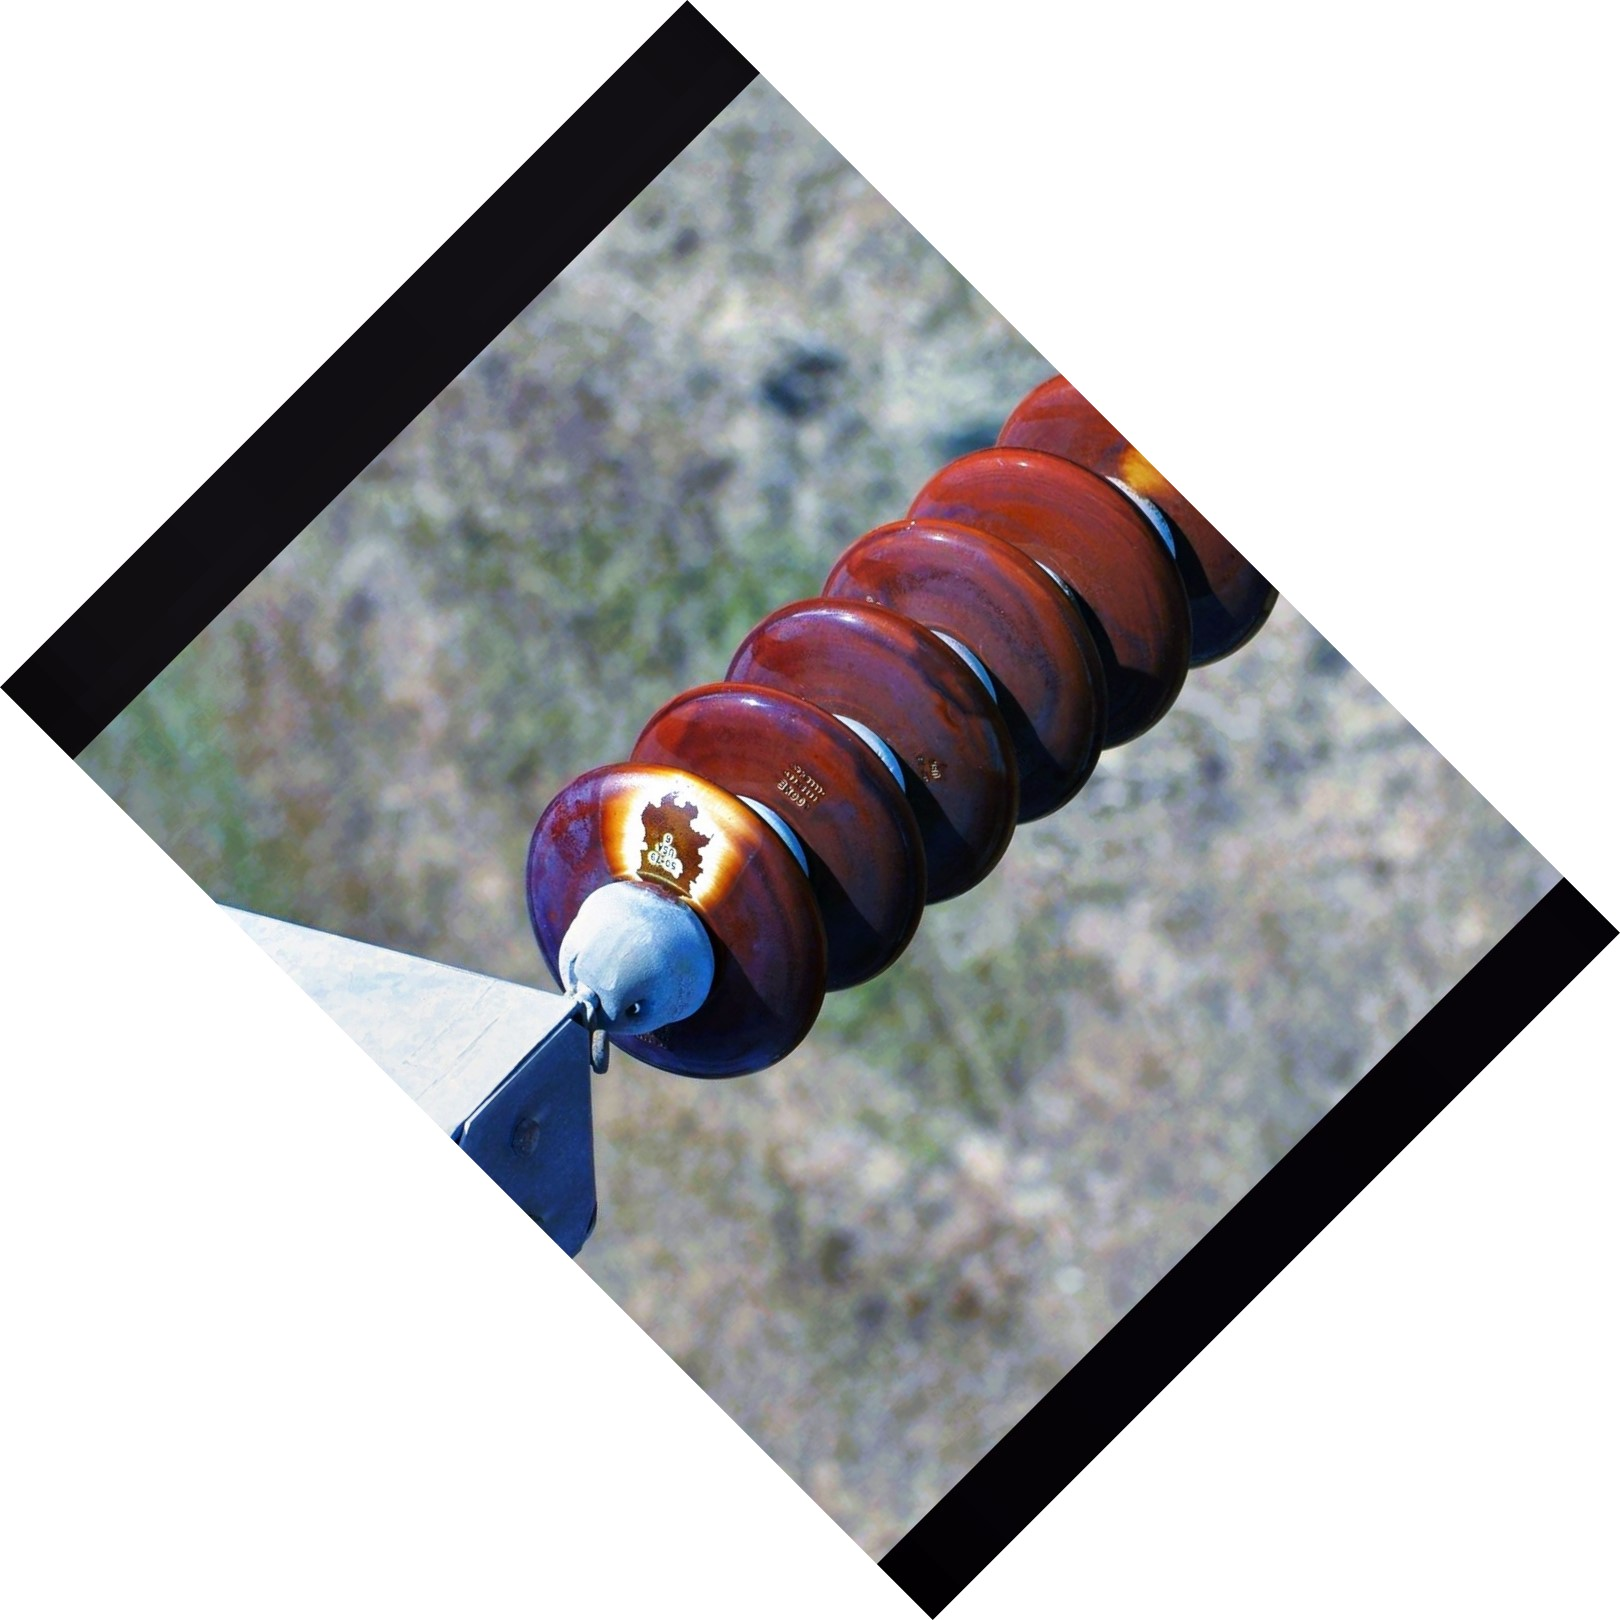Insulator flashover: (509, 748, 838, 1116)
